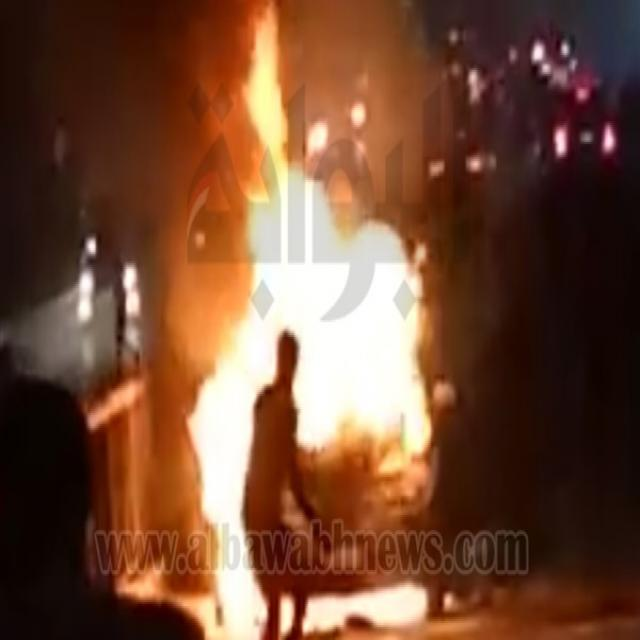Fire: (188, 0, 432, 640)
